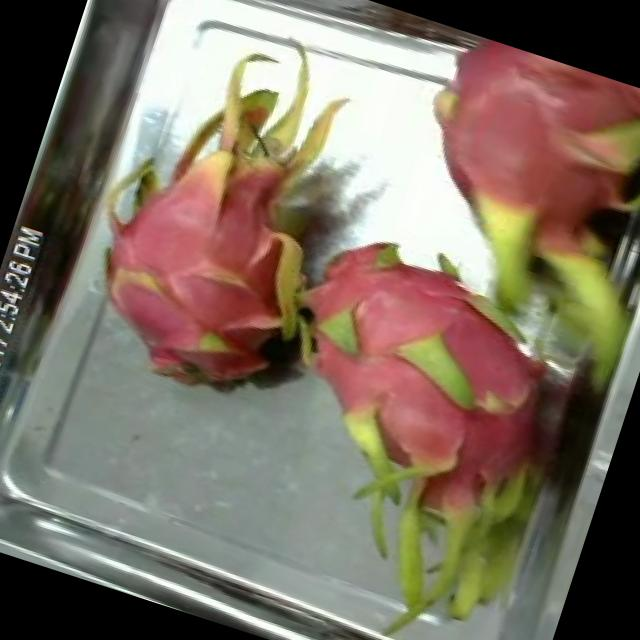Fruit: (330, 332, 503, 500)
